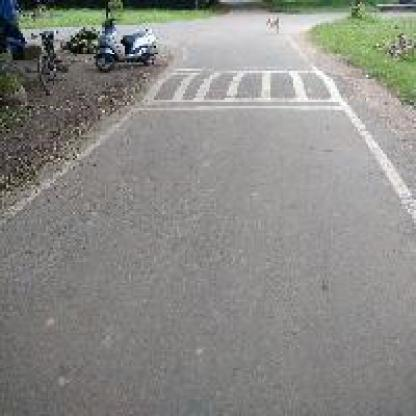Speed Bump: (131, 62, 352, 112)
